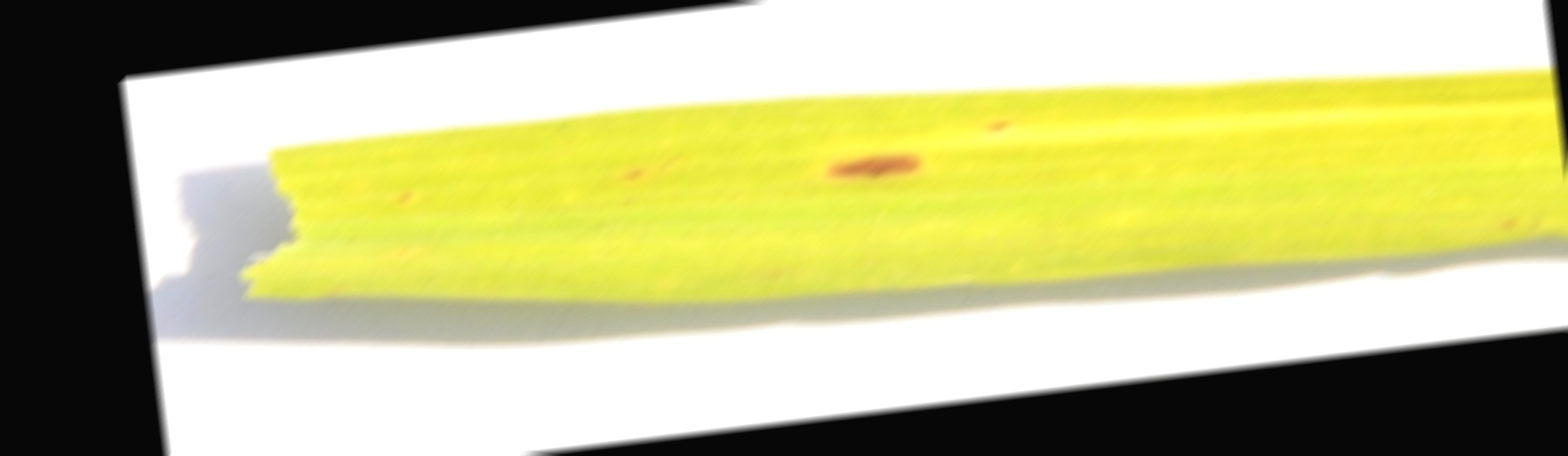Bacterial_Leaf_Blight: (798, 144, 955, 179)
